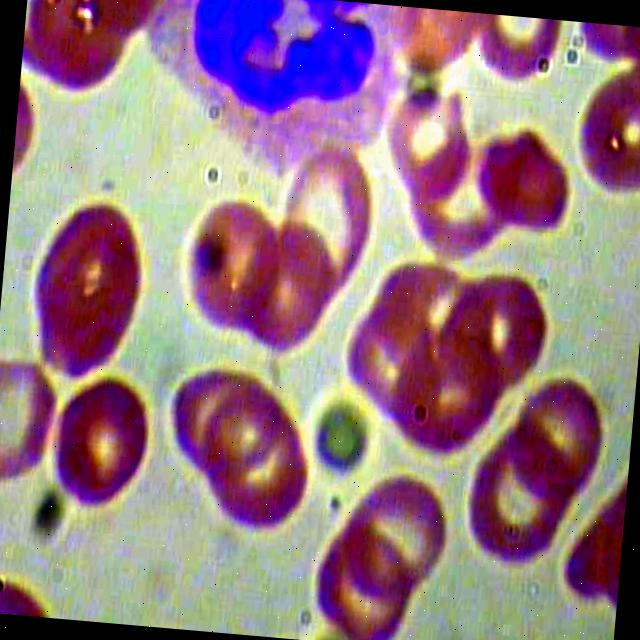RBC: (13, 188, 157, 386), (318, 460, 462, 610), (194, 388, 320, 550), (168, 188, 294, 341), (48, 364, 166, 514), (498, 368, 616, 508), (440, 267, 555, 408), (464, 436, 573, 578), (332, 301, 446, 422), (379, 80, 484, 206), (471, 122, 576, 240), (367, 258, 474, 372)
WBC: (125, 0, 417, 191)
